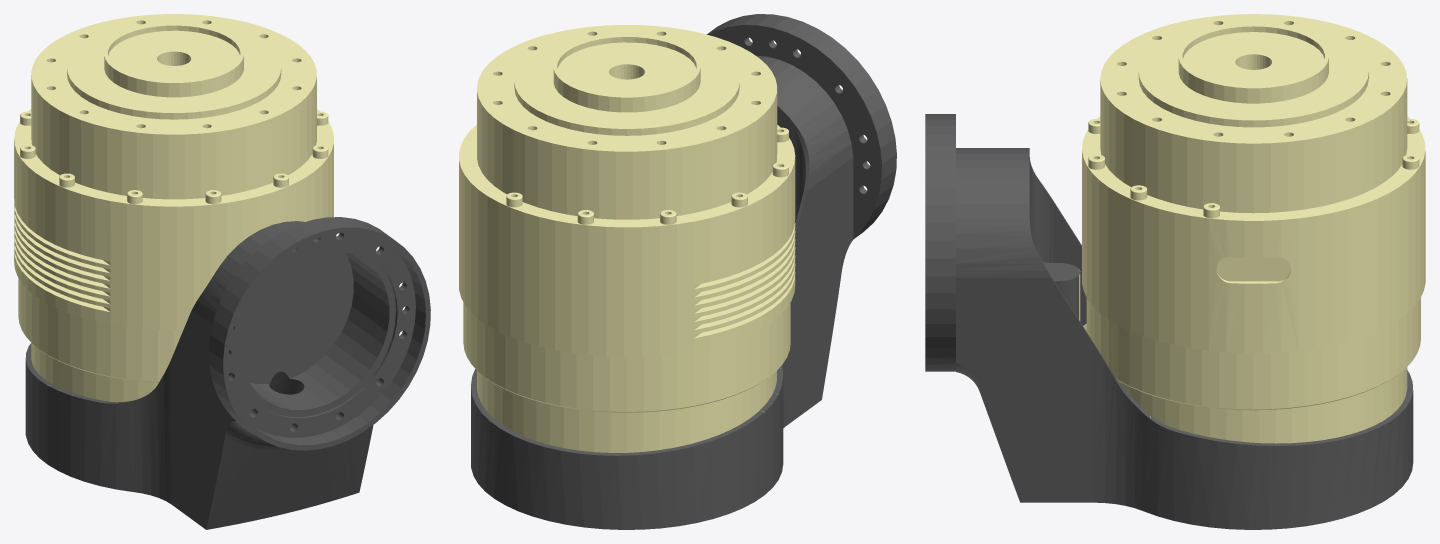
The picture shows the model from 3 angles, left to right: view 1: azimuth 30°, elevation 25°; view 2: azimuth 150°, elevation 25°; view 3: azimuth 270°, elevation 25°; orthographic projection. The views are drawn at different scales.
Parts seen in each view (by area): view 1: link4; view 2: link4; view 3: link4.
Part boxes in pixels (<box>): link4: <box>14,14,430,529</box>; link4: <box>459,14,896,529</box>; link4: <box>925,14,1425,529</box>.
Size of the model in its own units: 0.1119 by 0.163 by 0.146.
